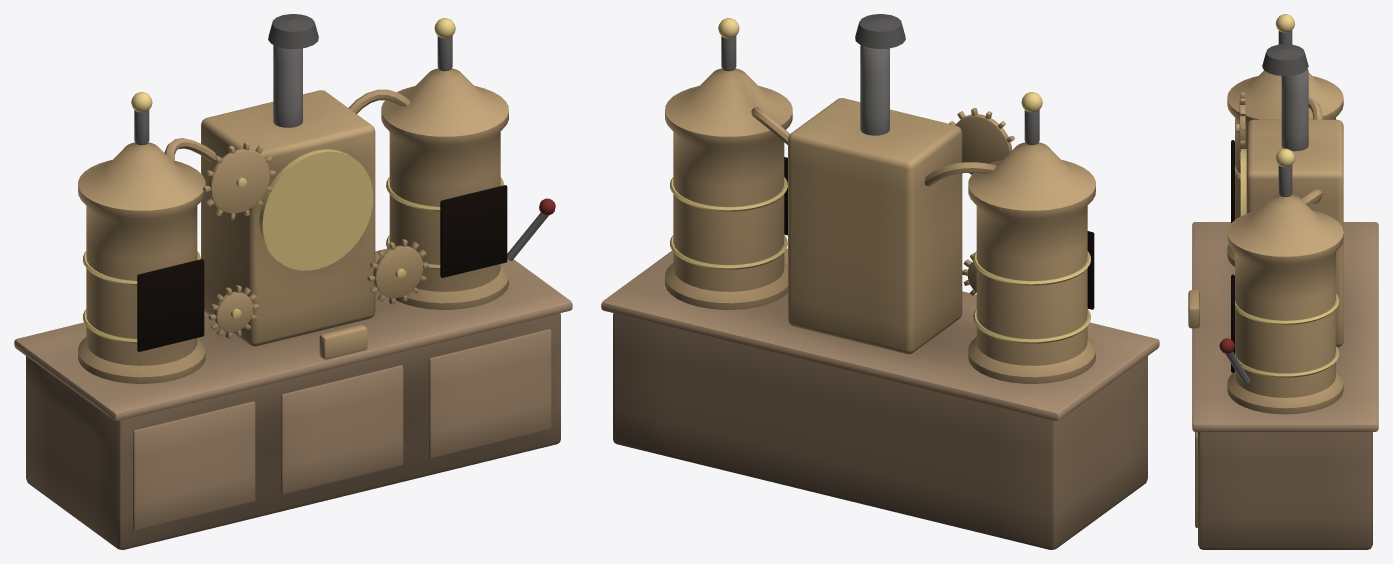
File: obj_kit_calculator.glb
3 renders of one model, left to right at view 1: azimuth 30°, elevation 25°; view 2: azimuth 150°, elevation 25°; view 3: azimuth 270°, elevation 25°, orthographic. The views are drawn at different scales.
Parts seen in each view (by area): view 1: Cube, Cube.007, Cube.001, drum, drum.001, Cube.004, Cube.003, Cube.002, Cylinder.002, Cube.006, Cube.005, Cylinder.004 (+6 smaller); view 2: Cube, Cube.007, drum, drum.001, Cube.001, Cylinder.003, Cylinder.004, cap, pipe, Torus.001, Torus.003, Torus (+1 smaller); view 3: Cube, drum.001, Cube.001, Cube.007, drum, Cylinder.003, cap, Torus.003, Torus.002, Cylinder.002, Cube.050, Cylinder.001 (+7 smaller).
Boxes of the visible parts, <box> form: Cube: <box>26,313,560,549</box>; Cube.007: <box>201,90,375,346</box>; Cube.001: <box>14,248,572,420</box>; drum: <box>78,142,205,383</box>; drum.001: <box>381,68,508,309</box>; Cube.004: <box>428,329,551,458</box>; Cube.003: <box>281,365,403,494</box>; Cube.002: <box>133,401,255,530</box>; Cylinder.002: <box>259,149,373,270</box>; Cube.006: <box>440,185,507,277</box>; Cube.005: <box>137,259,204,351</box>; Cylinder.004: <box>208,148,269,213</box>; Cube: <box>613,313,1147,549</box>; Cube.007: <box>788,98,962,354</box>; drum: <box>968,142,1095,383</box>; drum.001: <box>665,68,792,309</box>; Cube.001: <box>601,248,1159,420</box>; Cylinder.003: <box>860,45,889,135</box>; Cylinder.004: <box>955,114,1011,174</box>; cap: <box>855,14,905,48</box>; pipe: <box>924,162,996,186</box>; Torus.001: <box>973,251,1090,285</box>; Torus.003: <box>670,177,787,211</box>; Torus: <box>973,309,1090,343</box>; Cube: <box>1198,432,1372,549</box>; drum.001: <box>1227,194,1343,414</box>; Cube.001: <box>1192,222,1378,431</box>; Cube.007: <box>1246,119,1343,347</box>; drum: <box>1227,70,1343,266</box>; Cylinder.003: <box>1281,69,1308,151</box>; cap: <box>1262,44,1308,76</box>; Torus.003: <box>1235,293,1339,324</box>; Torus.002: <box>1235,346,1339,377</box>; Cylinder.002: <box>1240,149,1246,216</box>; Cube.050: <box>1188,290,1199,328</box>; Cylinder.001: <box>1278,165,1292,196</box>.
Bounding box in the file's own units: 2.48 × 2.3 × 0.98.
